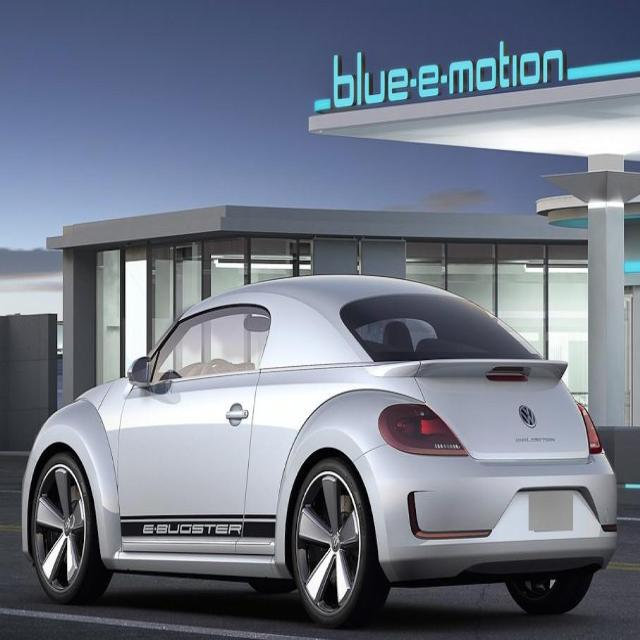back_glass: (339, 291, 544, 362)
back_left_side_light: (378, 401, 470, 456)
back_right_side_light: (576, 399, 604, 456)
front_left_side_door: (115, 362, 264, 552)
front_left_side_mirror: (127, 354, 156, 394)
rear_bumper: (348, 445, 617, 585)
wheel: (291, 457, 374, 625), (28, 453, 102, 603)
